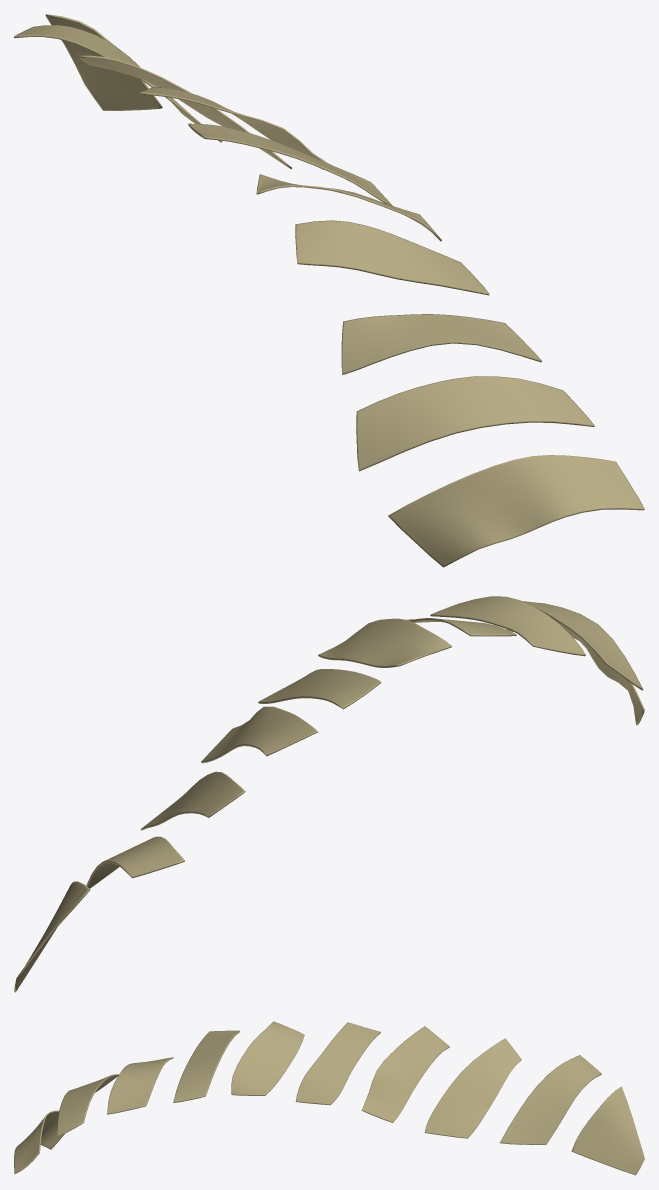
3 views of the same model, one above another, from view 1: azimuth 30°, elevation 25°; view 2: azimuth 150°, elevation 25°; view 3: azimuth 270°, elevation 25° (orthographic). The views are drawn at different scales.
Parts seen in each view (by area): view 1: 右侧肋间内膜; view 2: 右侧肋间内膜; view 3: 右侧肋间内膜.
Part boxes in pixels (left/top/right/bottom): 右侧肋间内膜: left=14, top=14, right=644, bottom=567; 右侧肋间内膜: left=14, top=596, right=644, bottom=992; 右侧肋间内膜: left=14, top=1021, right=644, bottom=1175.
Bounding box in the file's own units: 0.0984 × 0.0965 × 0.4136.
